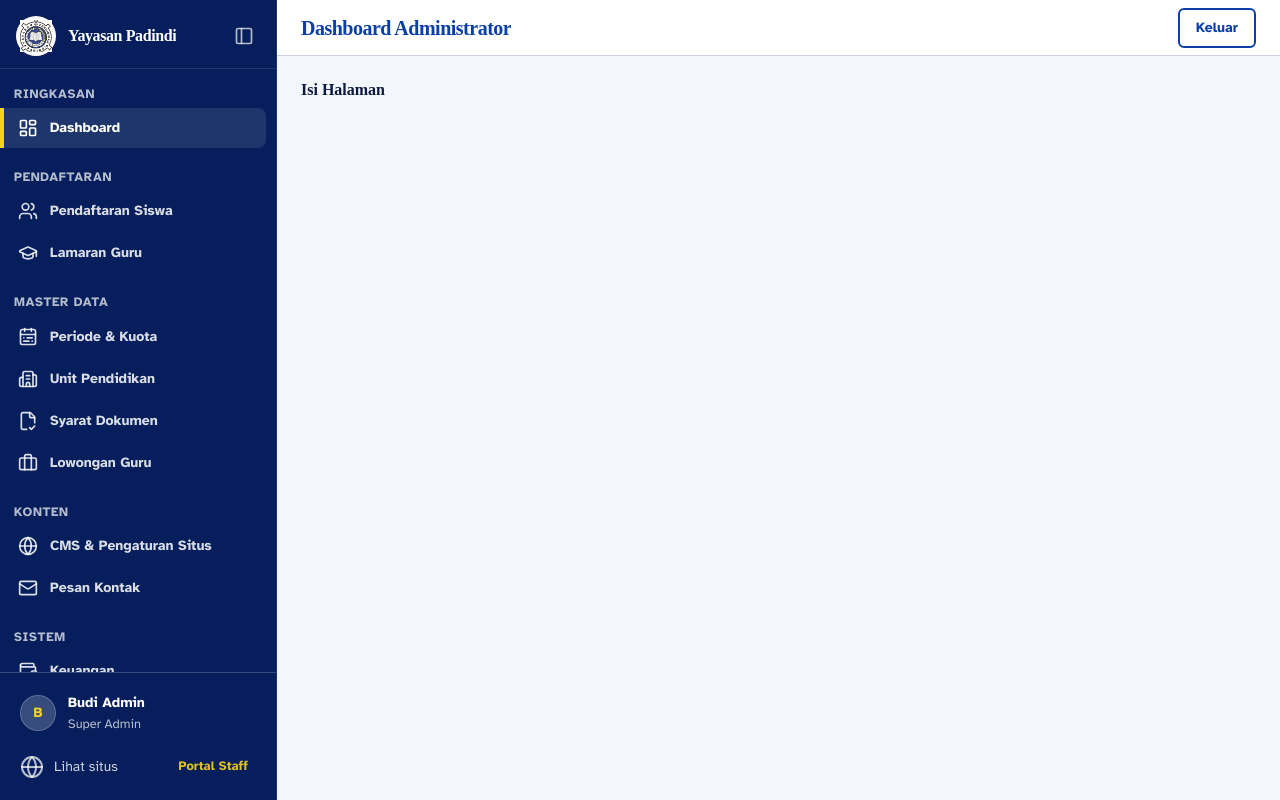
Test: AdminLayout — Keluar › gagal 500: tetap di halaman, pesan galat, token dan cache tetap
Click the button "Keluar": (1217, 28) [1178,8,1256,48]
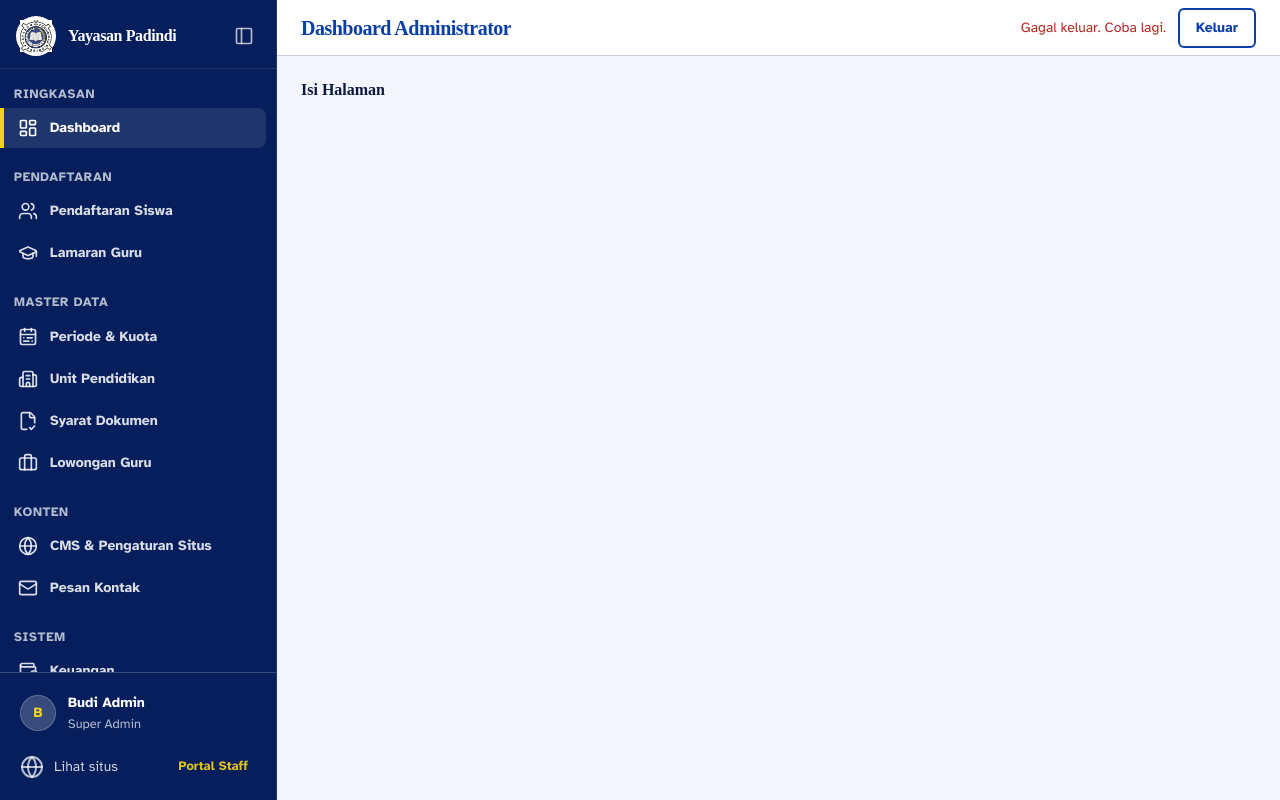
Check: the message shows "Gagal keluar", box [1021,18,1166,36]
